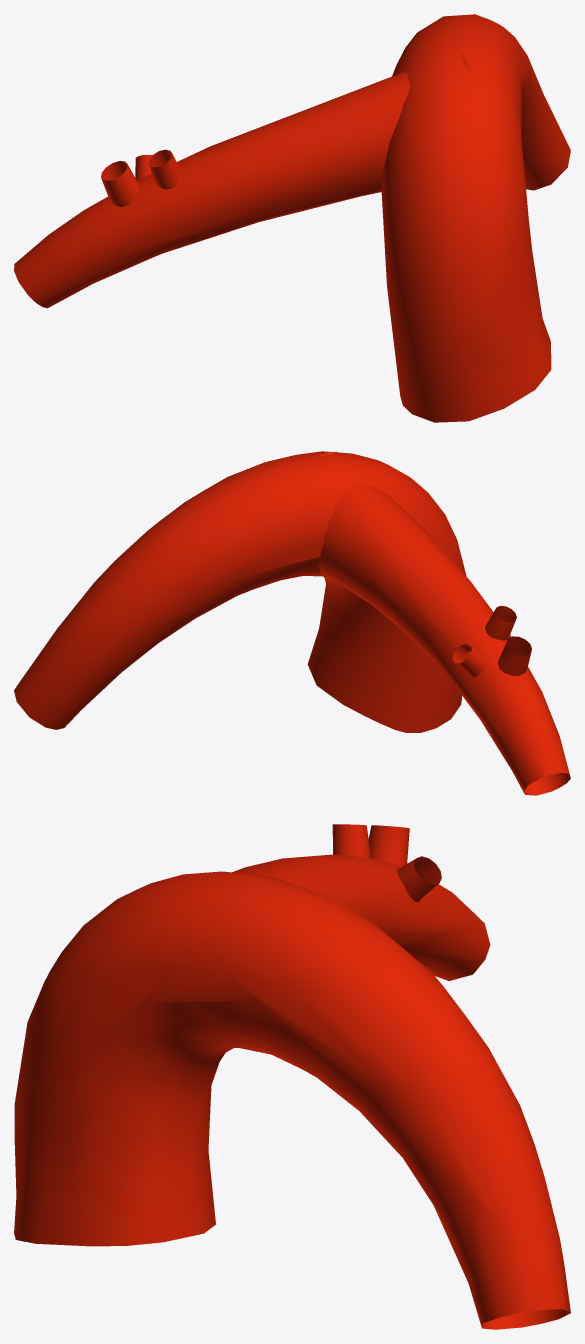
Rendered from pulmonaryarterytransposition.gltf.
The picture shows the model from 3 angles, top to bottom: view 1: azimuth 30°, elevation 25°; view 2: azimuth 150°, elevation 25°; view 3: azimuth 270°, elevation 25°; orthographic projection. The views are drawn at different scales.
Parts seen in each view (by area): view 1: NurbsPath.004; view 2: NurbsPath.004; view 3: NurbsPath.004.
Part boxes in pixels (x1=…): NurbsPath.004: x1=14, y1=14, x2=570, y2=422; NurbsPath.004: x1=14, y1=451, x2=570, y2=795; NurbsPath.004: x1=14, y1=824, x2=570, y2=1329.
Bounding box in the file's own units: 3.61 × 1.83 × 2.31.
